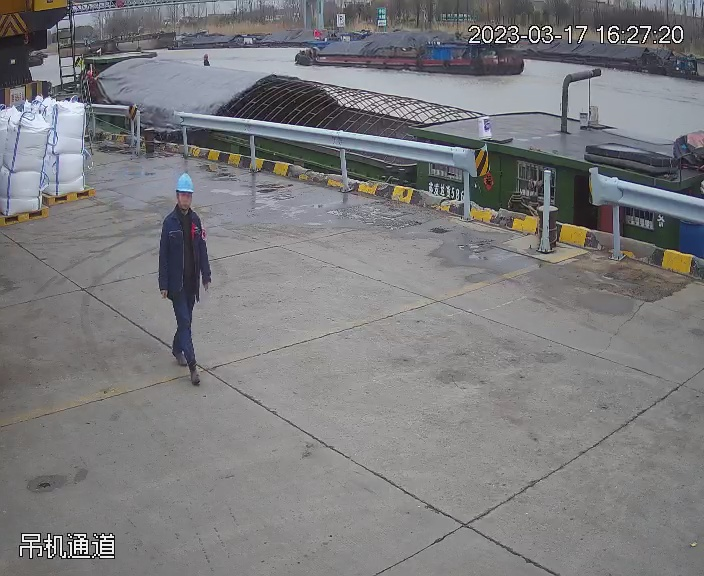head: (159, 175, 203, 237)
helmet: (174, 174, 196, 192)
people: (157, 177, 213, 389)
